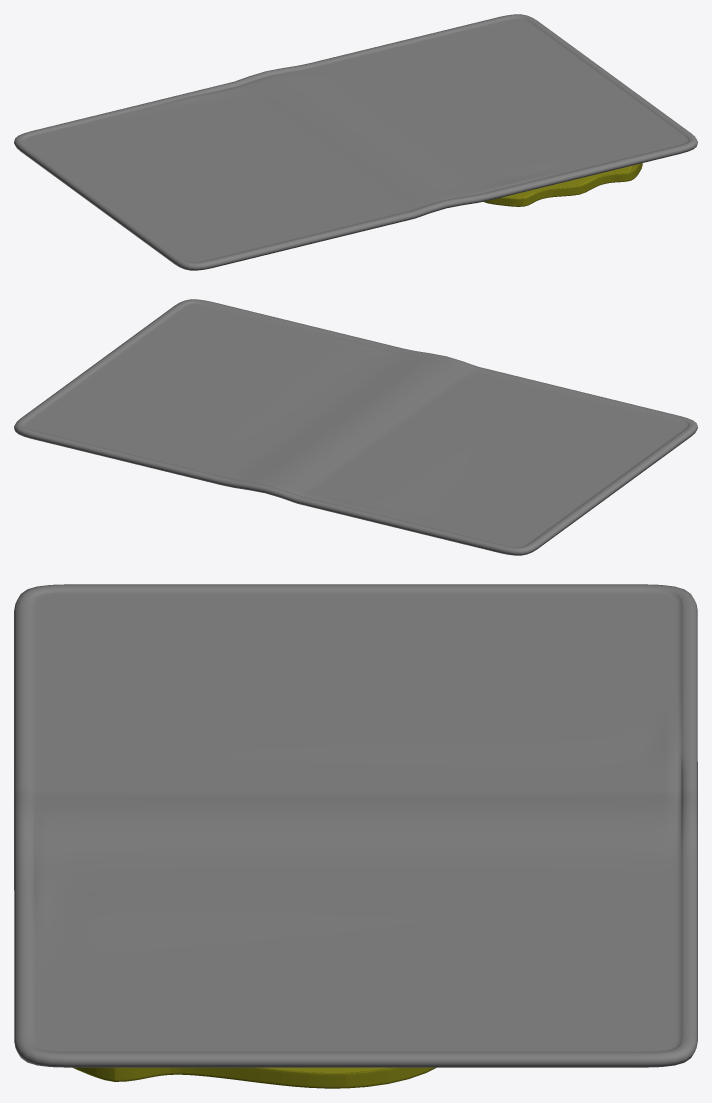
File: blender.obj
3 views of the same model, one above another, from view 1: azimuth 30°, elevation 25°; view 2: azimuth 150°, elevation 25°; view 3: azimuth 270°, elevation 25° (orthographic). The views are drawn at different scales.
Parts seen in each view (by area): view 1: Plane053, Object983; view 2: Plane053; view 3: Plane053, Object983.
Part boxes in pixels (x1=…): Plane053: x1=14, y1=14, x2=697, y2=270; Object983: x1=483, y1=163, x2=642, y2=206; Plane053: x1=14, y1=299, x2=697, y2=555; Plane053: x1=14, y1=584, x2=697, y2=1067; Object983: x1=73, y1=1067, x2=436, y2=1088.
Size of the model in its own units: 3.51 by 0.2817 by 2.13.
